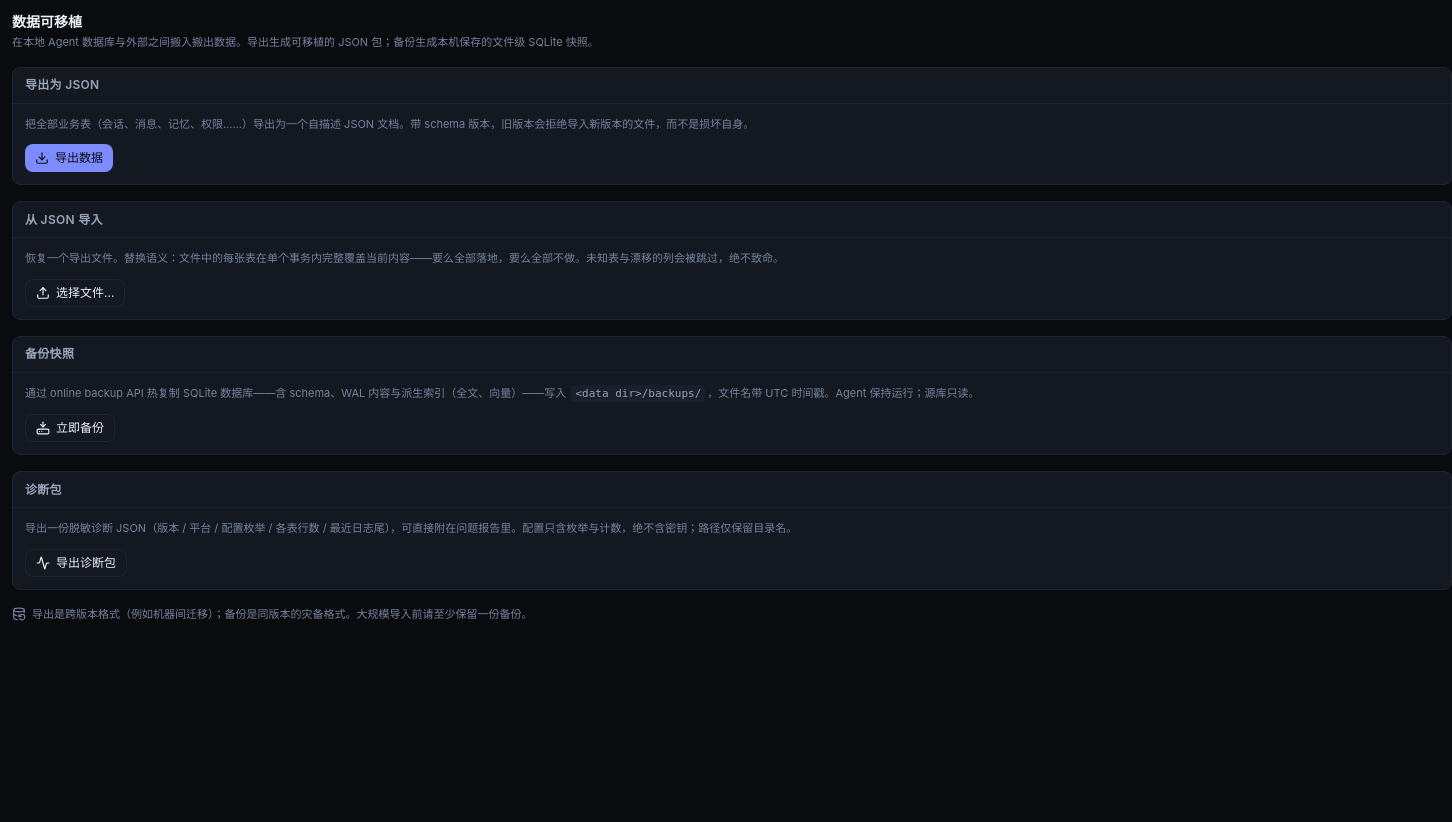
Scenario: DataTab › backup: reports the written path and human-readable size
Click the button with test id "settings-data-backup".
click(70, 428)  # box [25,414,115,442]
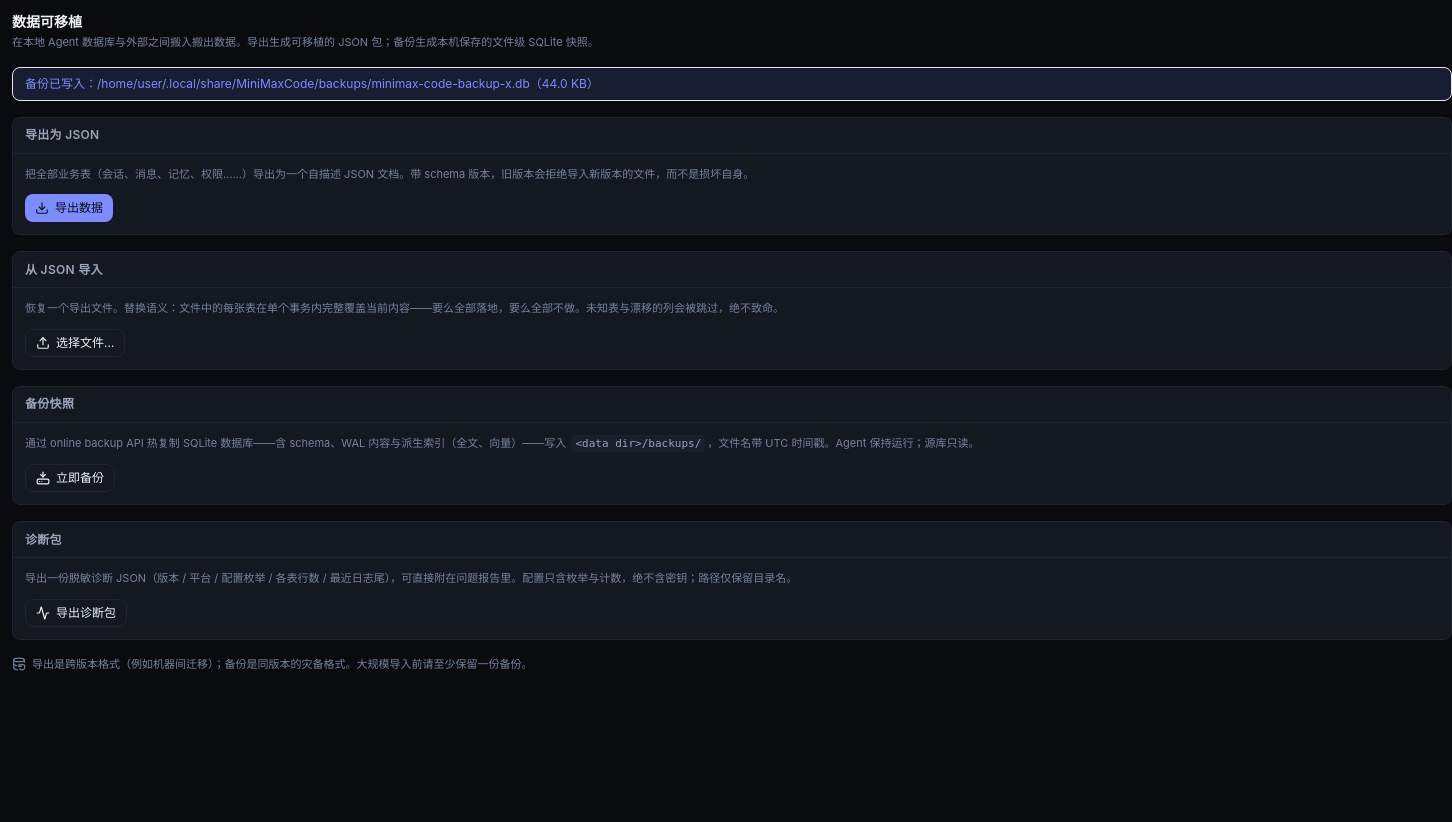
Expected: the message with test id "settings-data-feedback" shows "minimax-code-backup-x.db", [25,76,599,90]
Expected: the message with test id "settings-data-feedback" shows "44.0 KB", [25,76,599,90]
